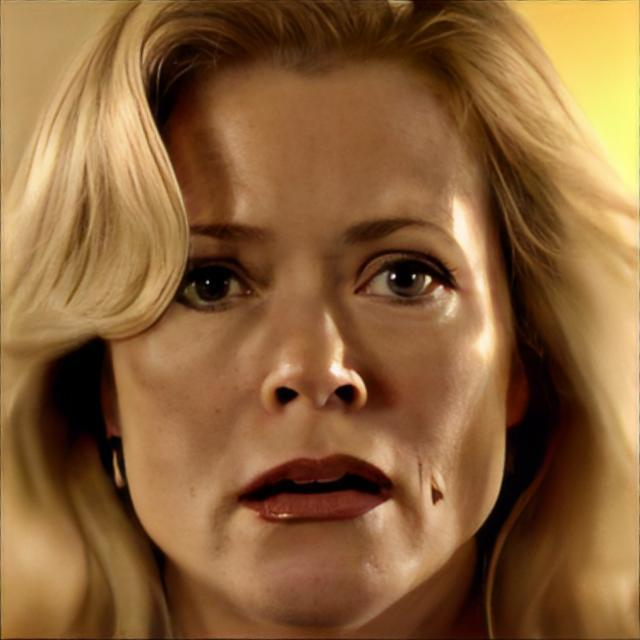fear: (118, 37, 516, 628)
